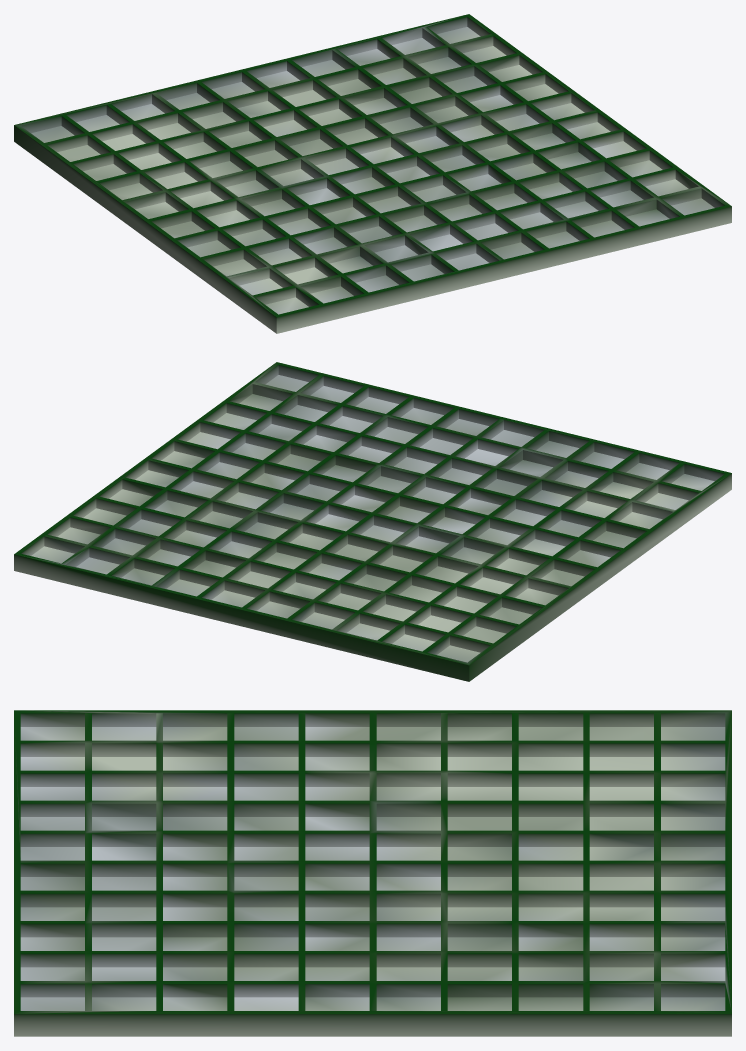
Rendered from AmpliGrid.glb.
3 views of the same model, one above another, from view 1: azimuth 30°, elevation 25°; view 2: azimuth 150°, elevation 25°; view 3: azimuth 270°, elevation 25° (orthographic). The views are drawn at different scales.
Parts seen in each view (by area): view 1: Mesh_Mesh_head_geo.001_lambert2SG.001; view 2: Mesh_Mesh_head_geo.001_lambert2SG.001; view 3: Mesh_Mesh_head_geo.001_lambert2SG.001.
Part boxes in pixels (<box>): Mesh_Mesh_head_geo.001_lambert2SG.001: <box>14,14,731,333</box>; Mesh_Mesh_head_geo.001_lambert2SG.001: <box>14,362,731,681</box>; Mesh_Mesh_head_geo.001_lambert2SG.001: <box>14,710,731,1036</box>.
Bounding box in the file's own units: 144 × 6 × 144.
